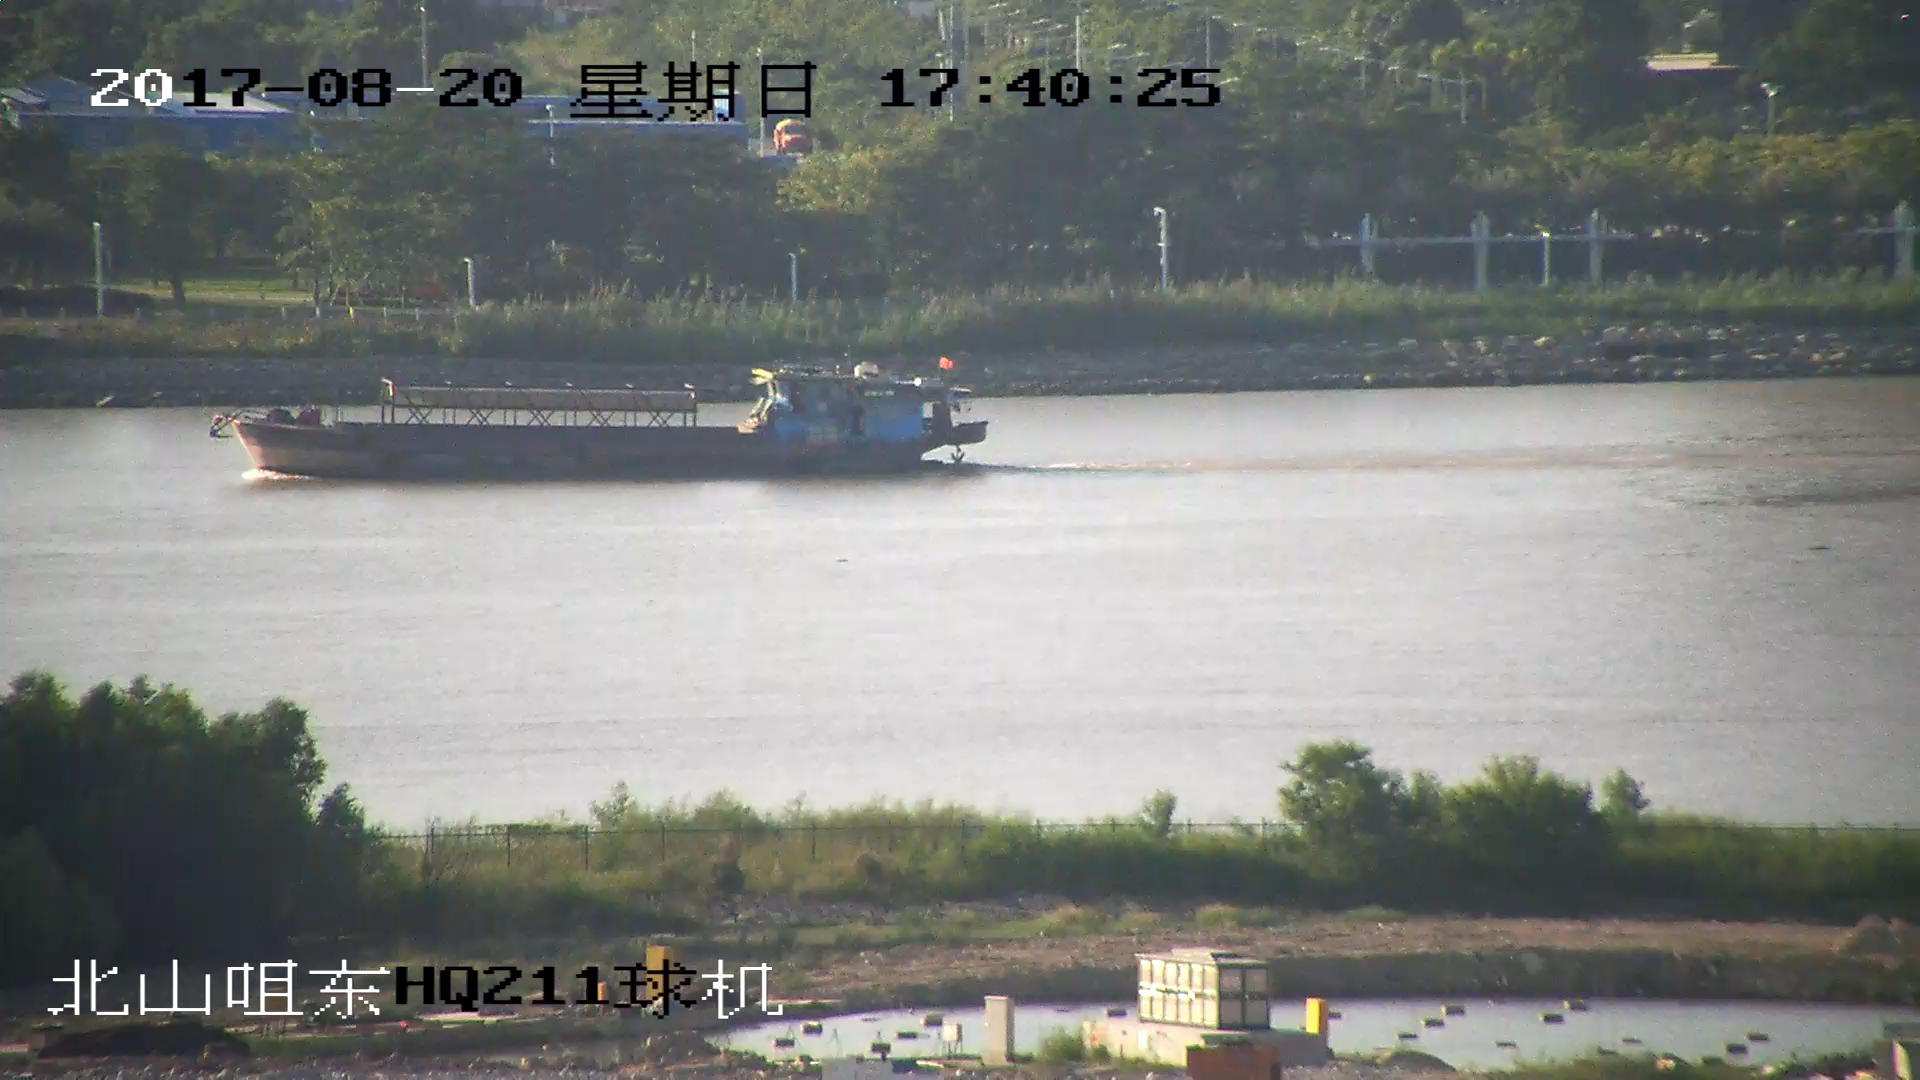fishing boat: (214, 362, 987, 479)
